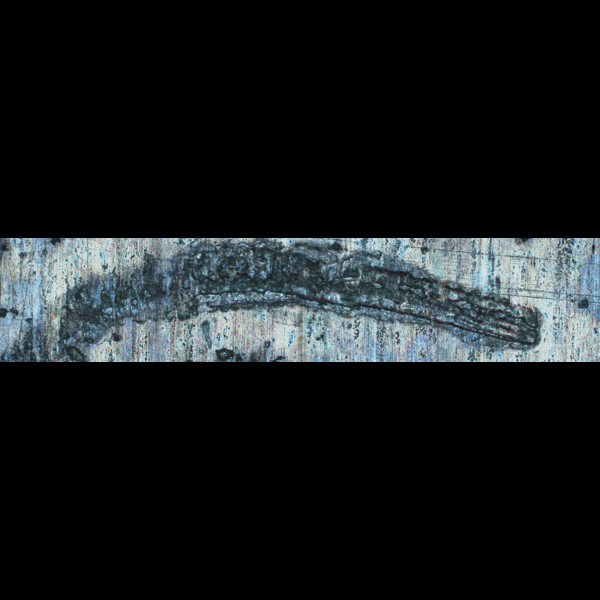d: (11, 238, 549, 357)
